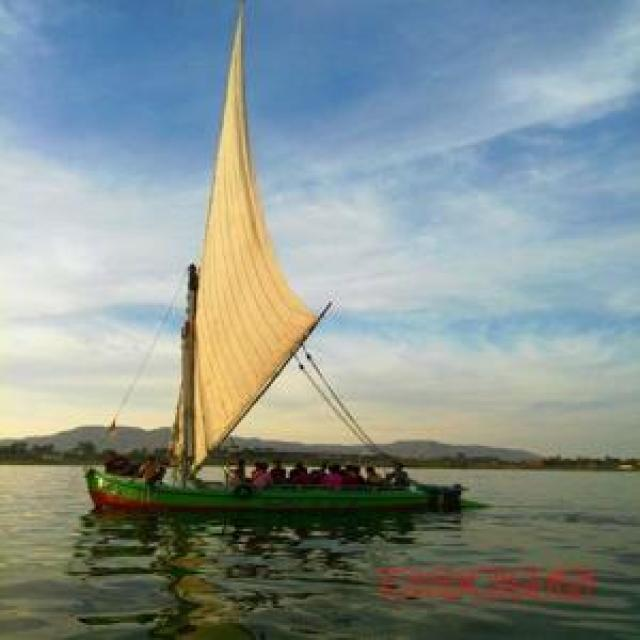sailboat: (83, 9, 472, 522)
